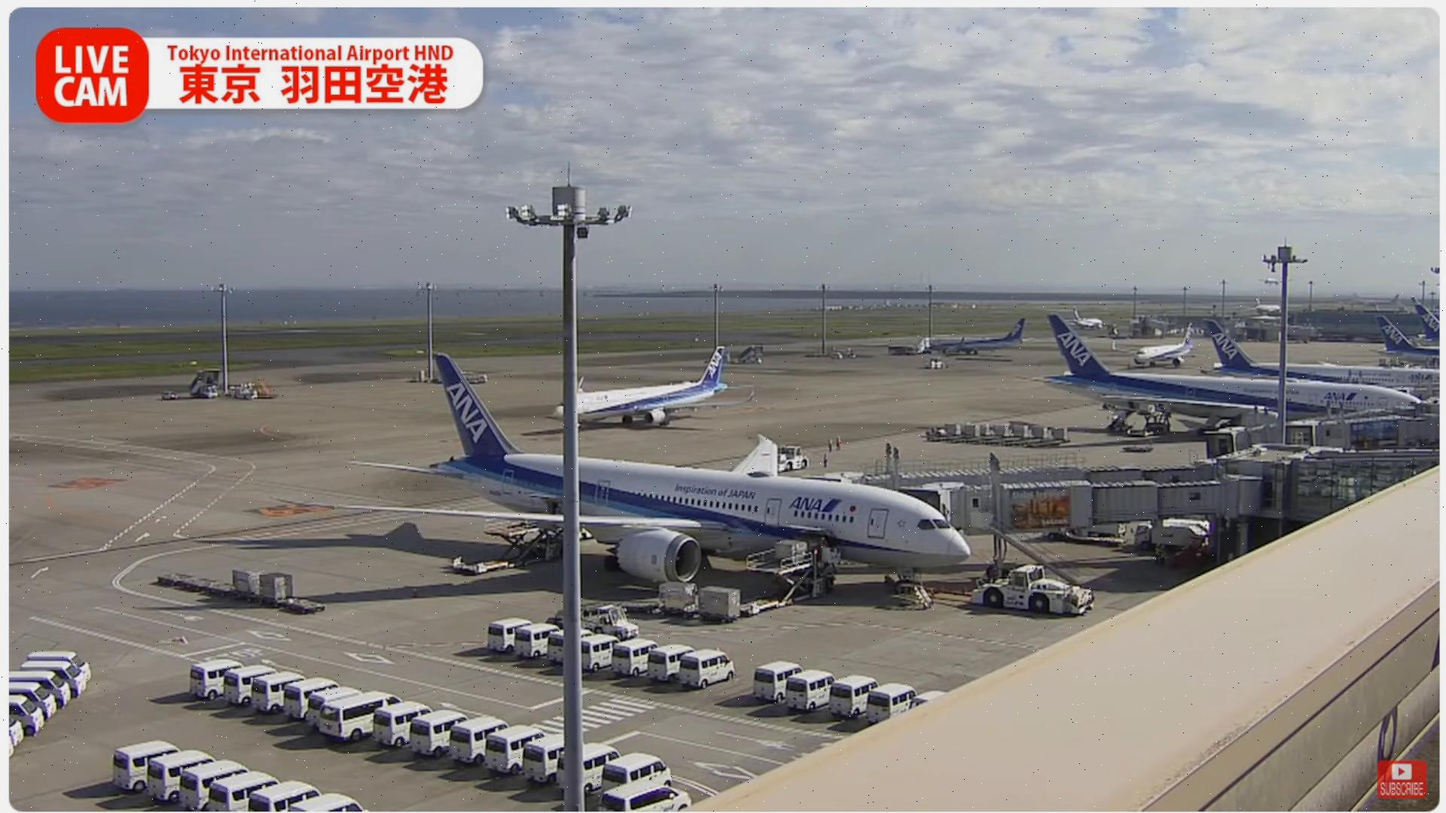APS: (969, 564, 1106, 619)
Aerobridge: (899, 476, 1264, 540), (843, 457, 1217, 496)
Airplane: (330, 354, 973, 599)
Dolly: (153, 561, 329, 620), (543, 581, 746, 628)
JCPL: (741, 546, 844, 607), (450, 522, 565, 575)
Tractor: (587, 603, 647, 640)
Window: (1290, 456, 1440, 523)
